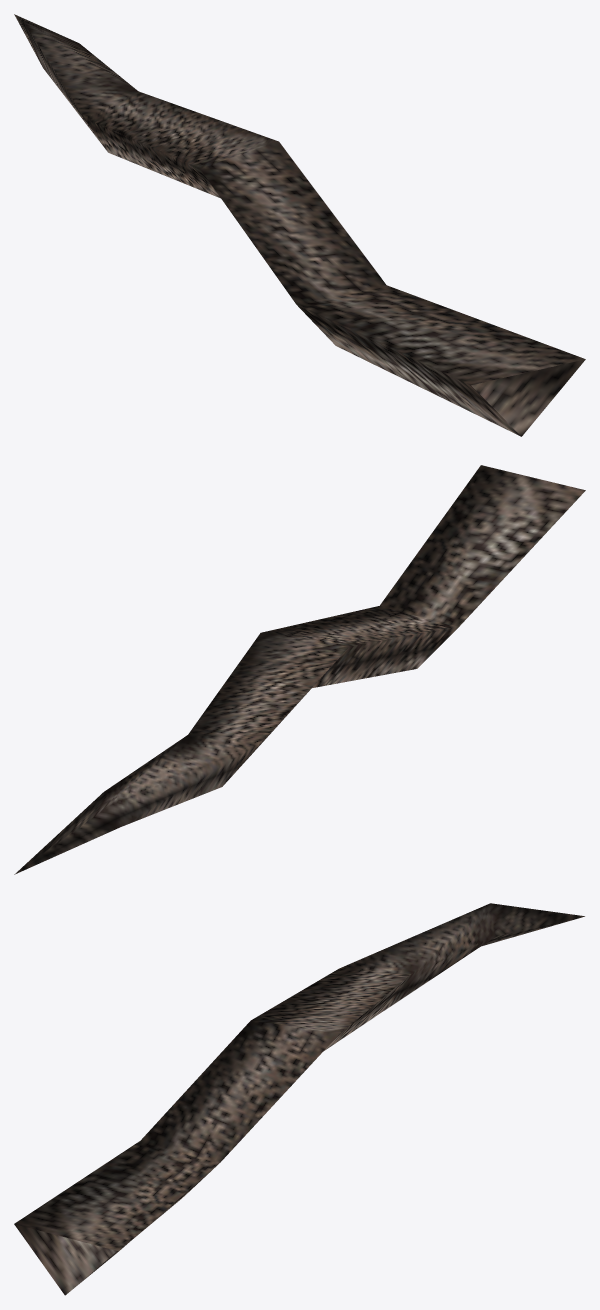
3 renders of one model, top to bottom at view 1: azimuth 30°, elevation 25°; view 2: azimuth 150°, elevation 25°; view 3: azimuth 330°, elevation 25°, orthographic. The views are drawn at different scales.
Visible parts, largest first — view 1: WRoot_07; view 2: WRoot_07; view 3: WRoot_07.
Boxes of the visible parts, bbox=[...] form: WRoot_07: bbox=[14, 14, 585, 436]; WRoot_07: bbox=[14, 465, 585, 874]; WRoot_07: bbox=[14, 903, 584, 1295].
Size of the model in its own units: 1.08 by 0.838 by 7.58.
